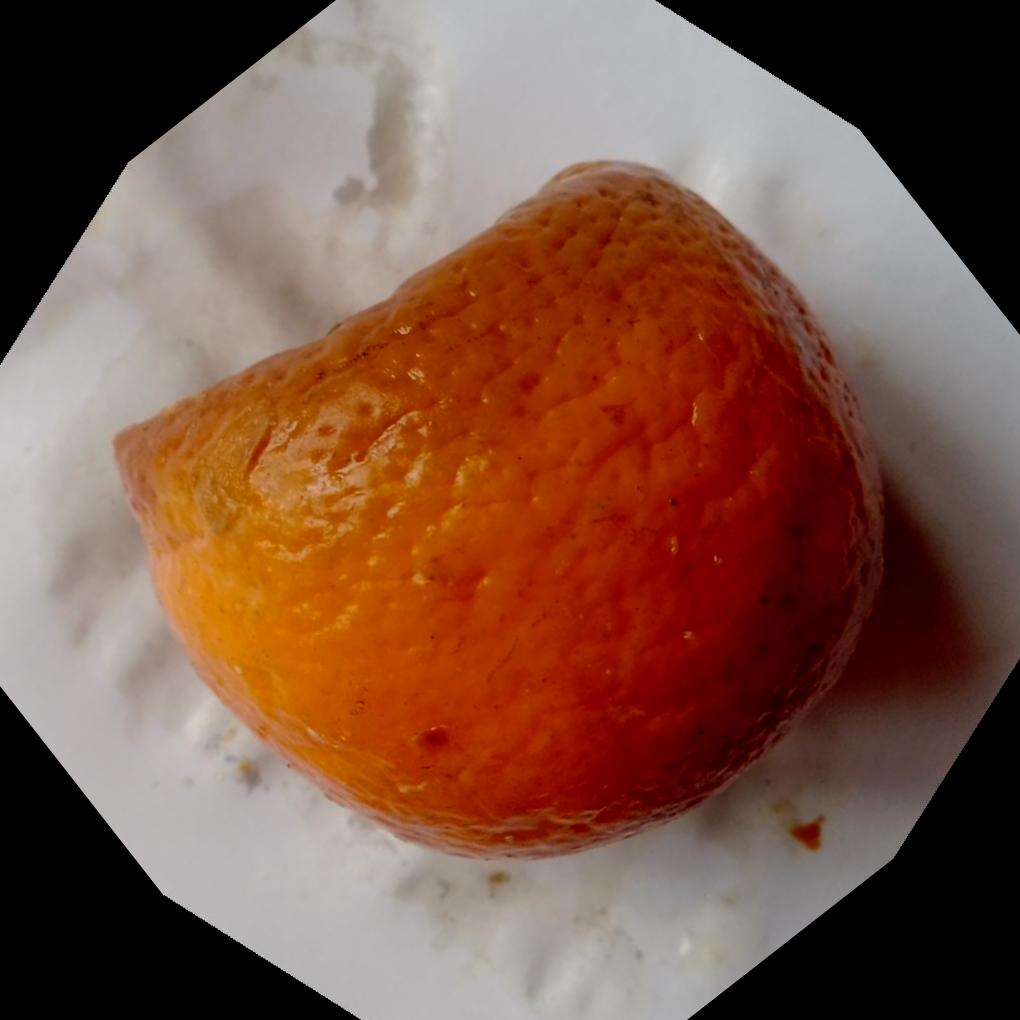FreshOrange: (112, 158, 890, 863)
